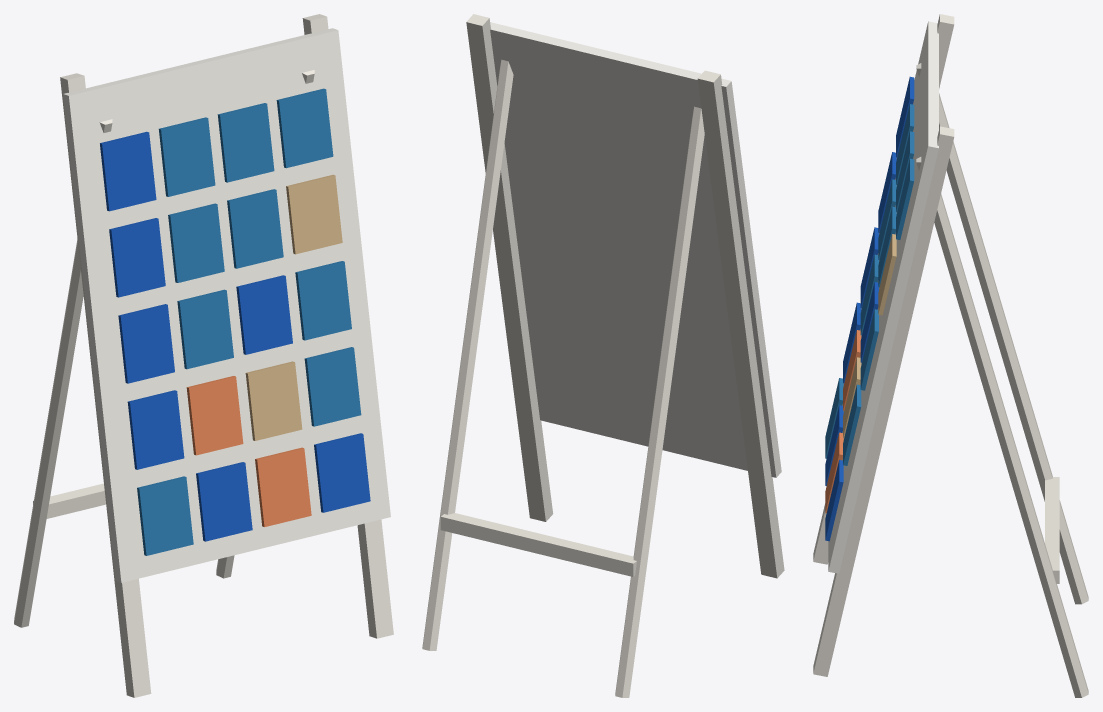
Rendered from easel.glb.
The picture shows the model from 3 angles, left to right: view 1: azimuth 30°, elevation 25°; view 2: azimuth 150°, elevation 25°; view 3: azimuth 270°, elevation 25°; orthographic projection. The views are drawn at different scales.
Visible parts, largest first — view 1: board20, white24, white21, sea0, sun5, sea7, dome8, sea17, sun2, dome3, dome4, dome10 (+13 smaller); view 2: board20, white21, white22, white24, white25, white26; view 3: board20, white25, white22, white24, white26, white21, sea11, sea19, sand15, dome3, sea7, sea17 (+14 smaller).
Part boxes in pixels (x1,y1,x2,y2): board20: [63, 28, 390, 582]; white24: [14, 119, 112, 627]; white21: [60, 73, 151, 697]; sea0: [137, 476, 193, 555]; sun5: [186, 376, 243, 455]; sea7: [304, 347, 361, 426]; dome8: [118, 304, 174, 383]; sea17: [158, 117, 215, 196]; sun2: [255, 447, 311, 527]; dome3: [314, 433, 370, 512]; dome4: [127, 390, 184, 469]; dome10: [236, 275, 292, 354]; board20: [490, 22, 781, 477]; white21: [697, 70, 784, 578]; white22: [466, 14, 553, 521]; white24: [615, 106, 704, 697]; white25: [422, 59, 513, 650]; white26: [440, 513, 636, 576]; board20: [828, 21, 938, 573]; white25: [916, 157, 1088, 697]; white22: [813, 126, 954, 676]; white24: [916, 63, 1088, 604]; white26: [1045, 477, 1059, 583]; white21: [813, 14, 954, 564]; sea11: [860, 309, 878, 390]; sea19: [896, 158, 914, 239]; sand15: [878, 234, 896, 315]; dome3: [825, 460, 843, 541]; sea7: [843, 384, 861, 465]; sea17: [896, 104, 914, 184].
Bounding box in the file's own units: 0.8 × 1.72 × 0.7462.
